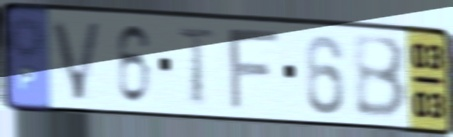6: (303, 31, 346, 117), (114, 21, 154, 106)
B: (349, 33, 409, 122)
F: (226, 28, 284, 114)
T: (173, 24, 220, 109)
V: (48, 17, 107, 104)
